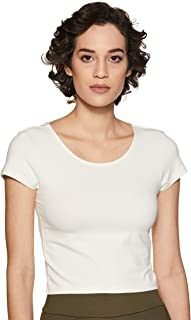tshirt: (1, 119, 190, 299)
